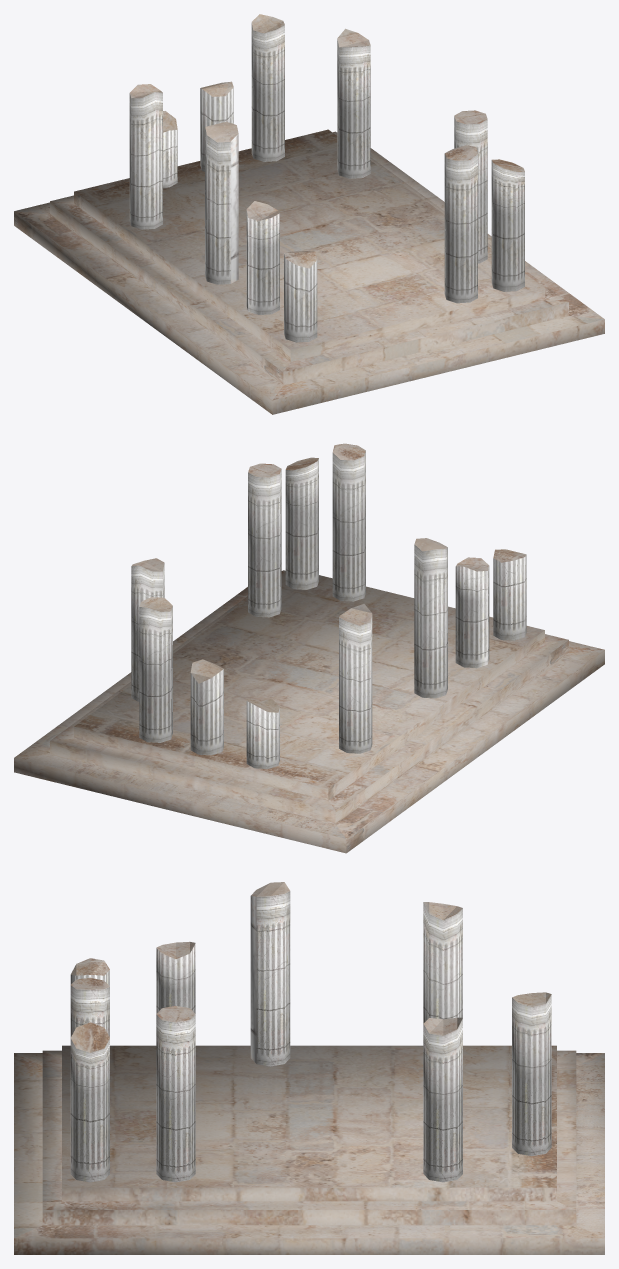
The model's file is temple_ruins.fbx.
The picture shows the model from 3 angles, top to bottom: view 1: azimuth 30°, elevation 25°; view 2: azimuth 150°, elevation 25°; view 3: azimuth 270°, elevation 25°; orthographic projection. The views are drawn at different scales.
Parts seen in each view (by area): view 1: Cube.019; view 2: Cube.019; view 3: Cube.019.
Boxes of the visible parts, left/top/right/bottom form: Cube.019: left=14, top=14, right=604, bottom=414; Cube.019: left=14, top=443, right=604, bottom=853; Cube.019: left=14, top=882, right=604, bottom=1254.
Bounding box in the file's own units: 1042 × 566 × 1403.
